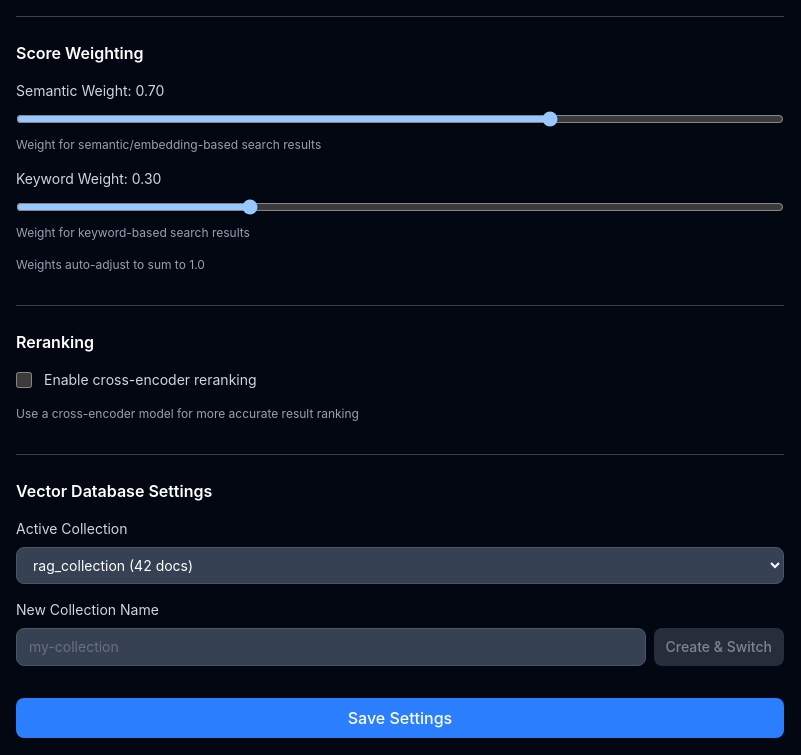
it: SettingsPanel › accepts_valid_collection_name
(page scrolled)
Step 1. Type "valid_col" into the field labelled "New Collection Name" → (331, 647), box [16,628,646,666]
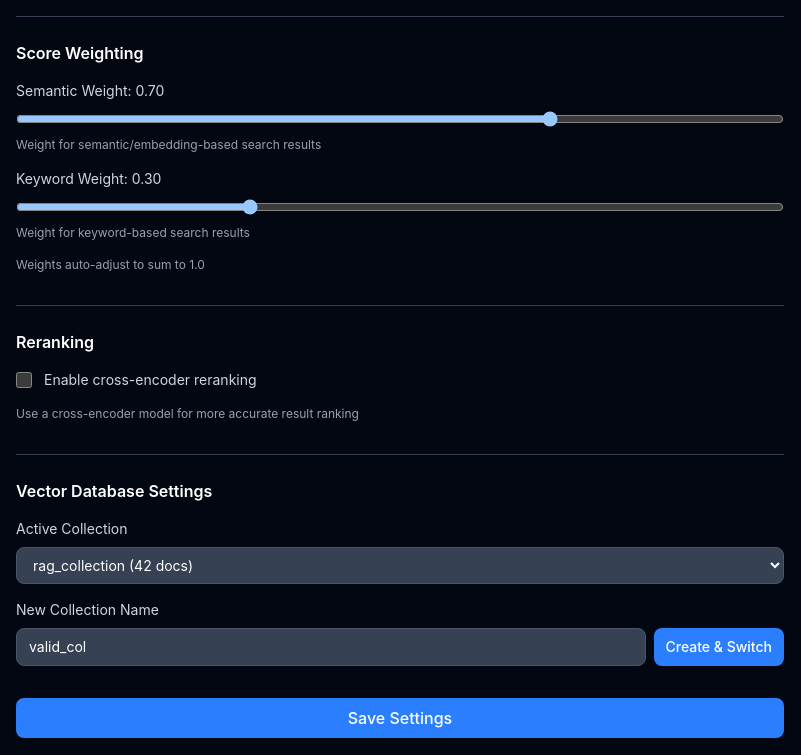
Expected: the button with aria-label "create and switch" is enabled, [654,628,784,666]
